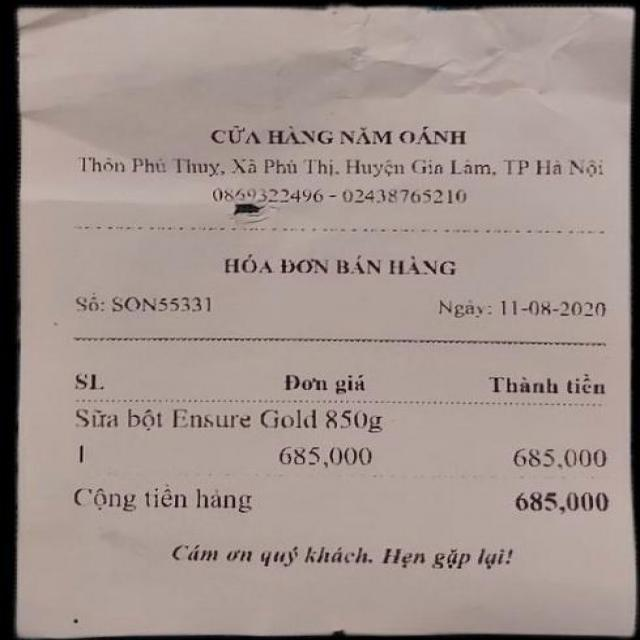Date: (494, 285, 624, 328)
Store_Name: (178, 109, 478, 154)
amount_number: (504, 479, 622, 526)
label_total: (68, 482, 256, 518)
